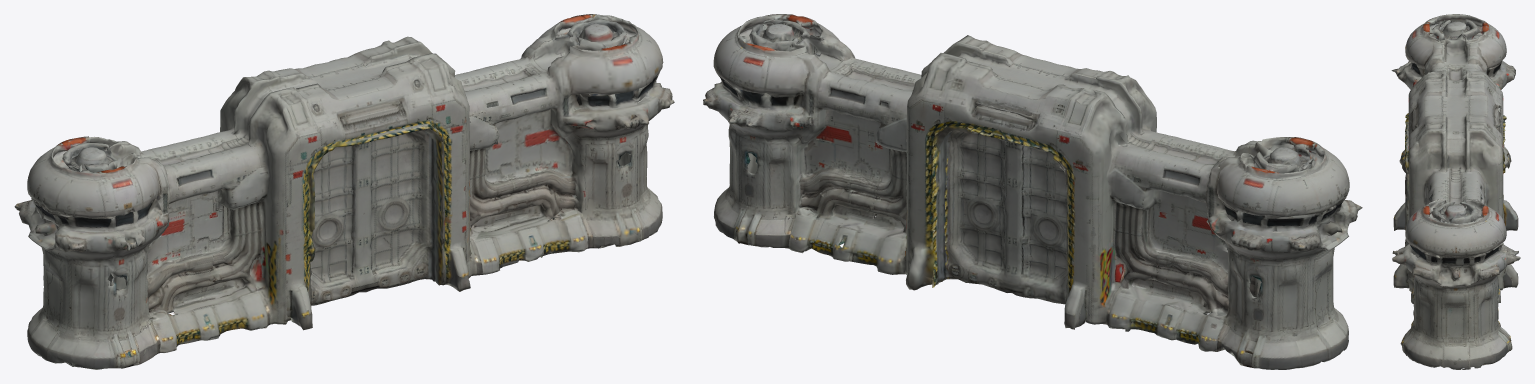
The model's file is BossGate.glb.
3 views of the same model, side by side, from view 1: azimuth 30°, elevation 25°; view 2: azimuth 150°, elevation 25°; view 3: azimuth 270°, elevation 25° (orthographic). The views are drawn at different scales.
Visible parts, largest first — view 1: texture_mapping; view 2: texture_mapping; view 3: texture_mapping.
Boxes of the visible parts, box(x1,y1,x2,y2) form: texture_mapping: box(14, 14, 674, 369); texture_mapping: box(703, 14, 1362, 369); texture_mapping: box(1391, 14, 1520, 369).
Size of the model in its own units: 0.9968 by 0.3267 by 0.2416.
Materials: 1 (1 with a texture image).
